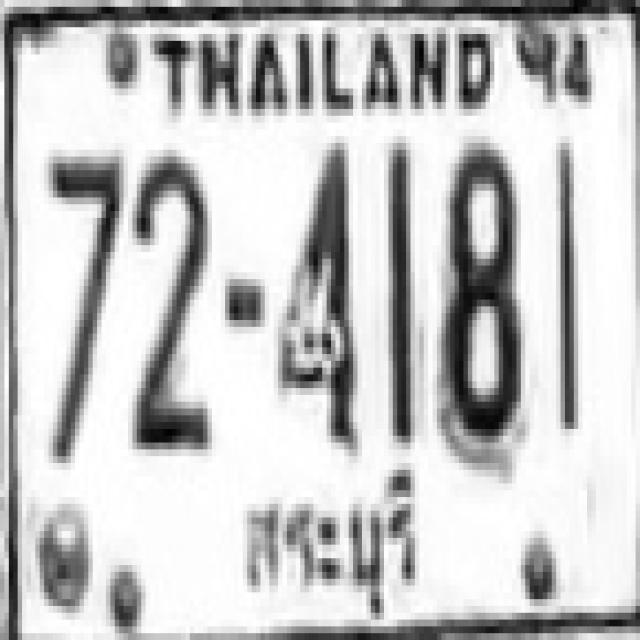1: (384, 143, 410, 443), (552, 140, 574, 432)
2: (128, 150, 207, 442)
4: (274, 140, 353, 439)
7: (44, 150, 119, 456)
8: (437, 136, 516, 443)
SRI: (232, 464, 436, 628)
